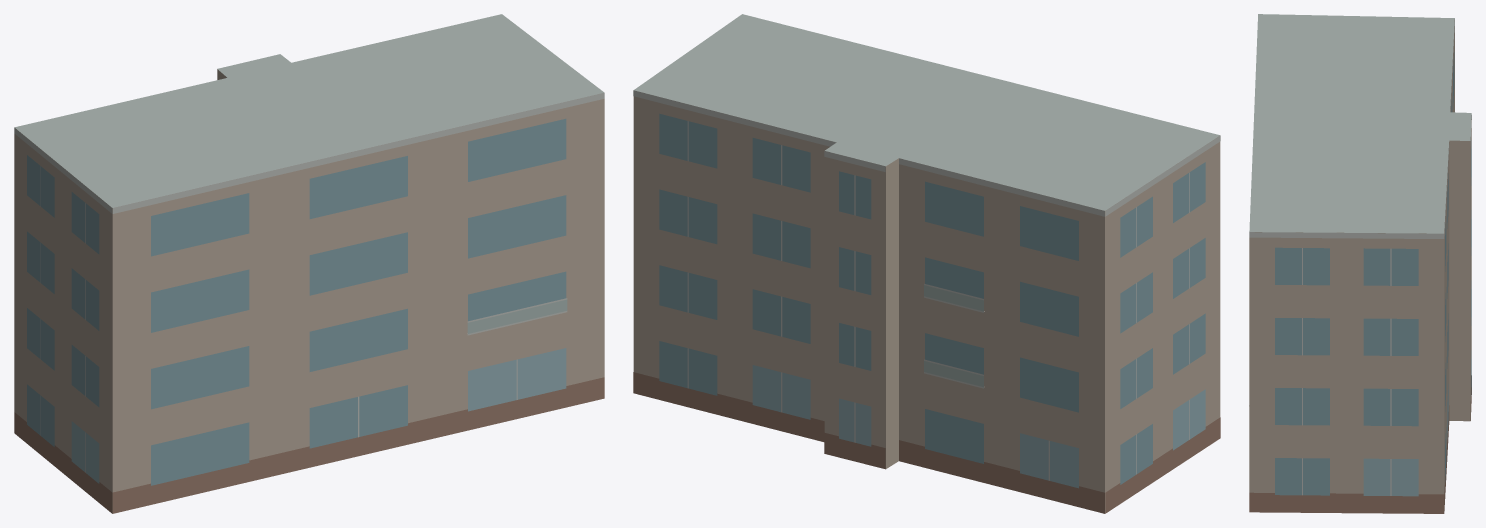
File: survey-upis-32706807.glb
3 renders of one model, left to right at view 1: azimuth 30°, elevation 25°; view 2: azimuth 150°, elevation 25°; view 3: azimuth 270°, elevation 25°, orthographic. The views are drawn at different scales.
Parts seen in each view (by area): view 1: survey-upis-32706807.tmp; view 2: survey-upis-32706807.tmp; view 3: survey-upis-32706807.tmp.
Boxes of the visible parts, x1,y1,x2,y2 form: survey-upis-32706807.tmp: (14, 14, 604, 513); survey-upis-32706807.tmp: (633, 14, 1220, 513); survey-upis-32706807.tmp: (1249, 14, 1471, 513).
Size of the model in its own units: 20.74 by 12.34 by 8.89.
